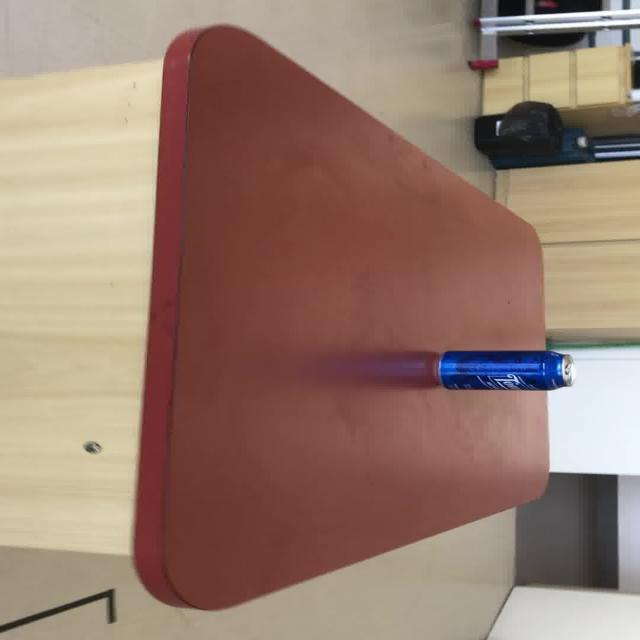tonic: (323, 348, 575, 391), (434, 349, 575, 390)
